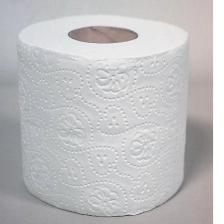tissue: (11, 9, 196, 221)
